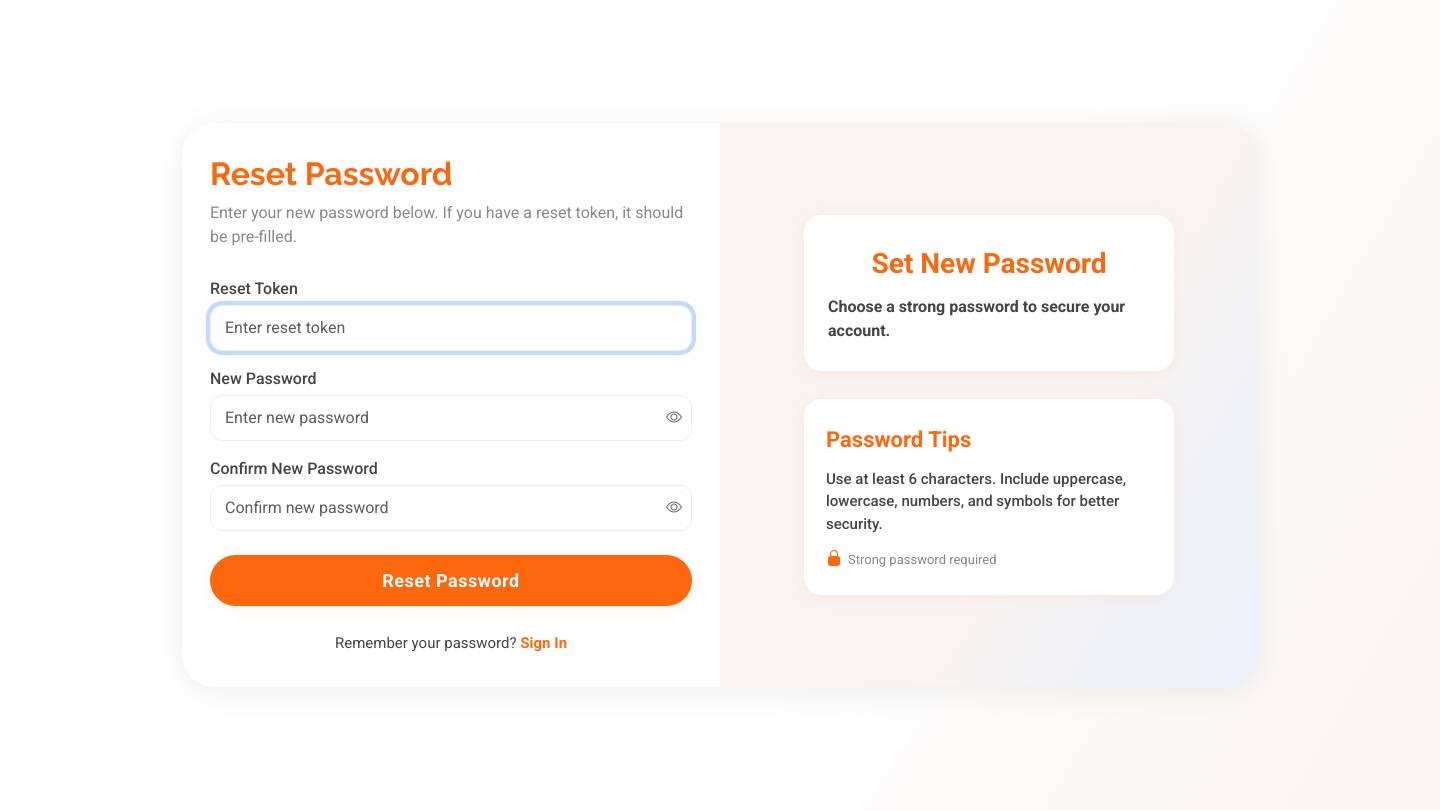
Test: ResetPassword › shows error when passwords do not match
The width and height of the screenshot is (1440, 810).
Step 1. Type "some-token" into the field labelled "Reset Token" → point(451, 328), box top-left (210, 305), bottom-right (692, 351)
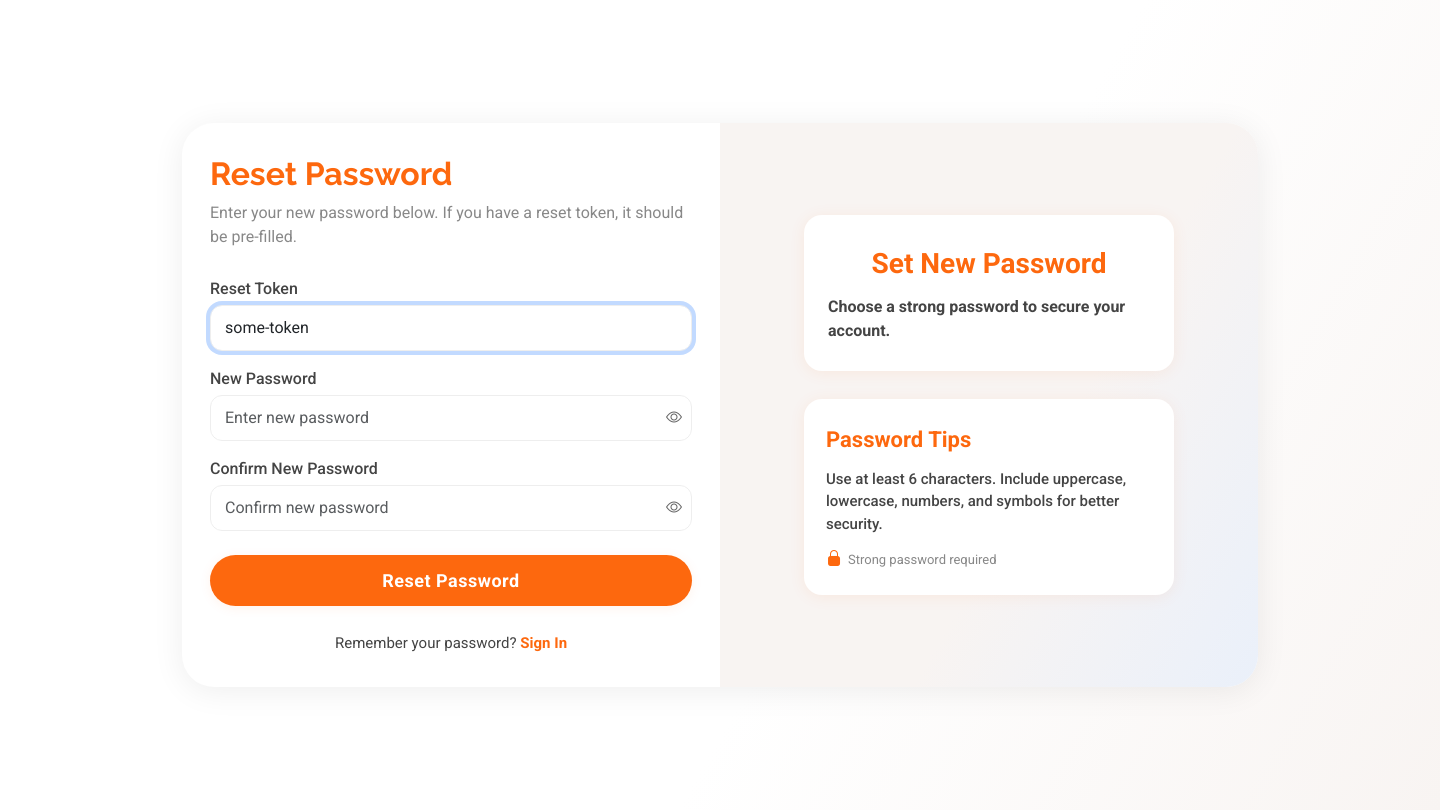
Step 2. Type "Password123!" into the password field labelled "New Password" → point(451, 418), box top-left (210, 395), bottom-right (692, 441)
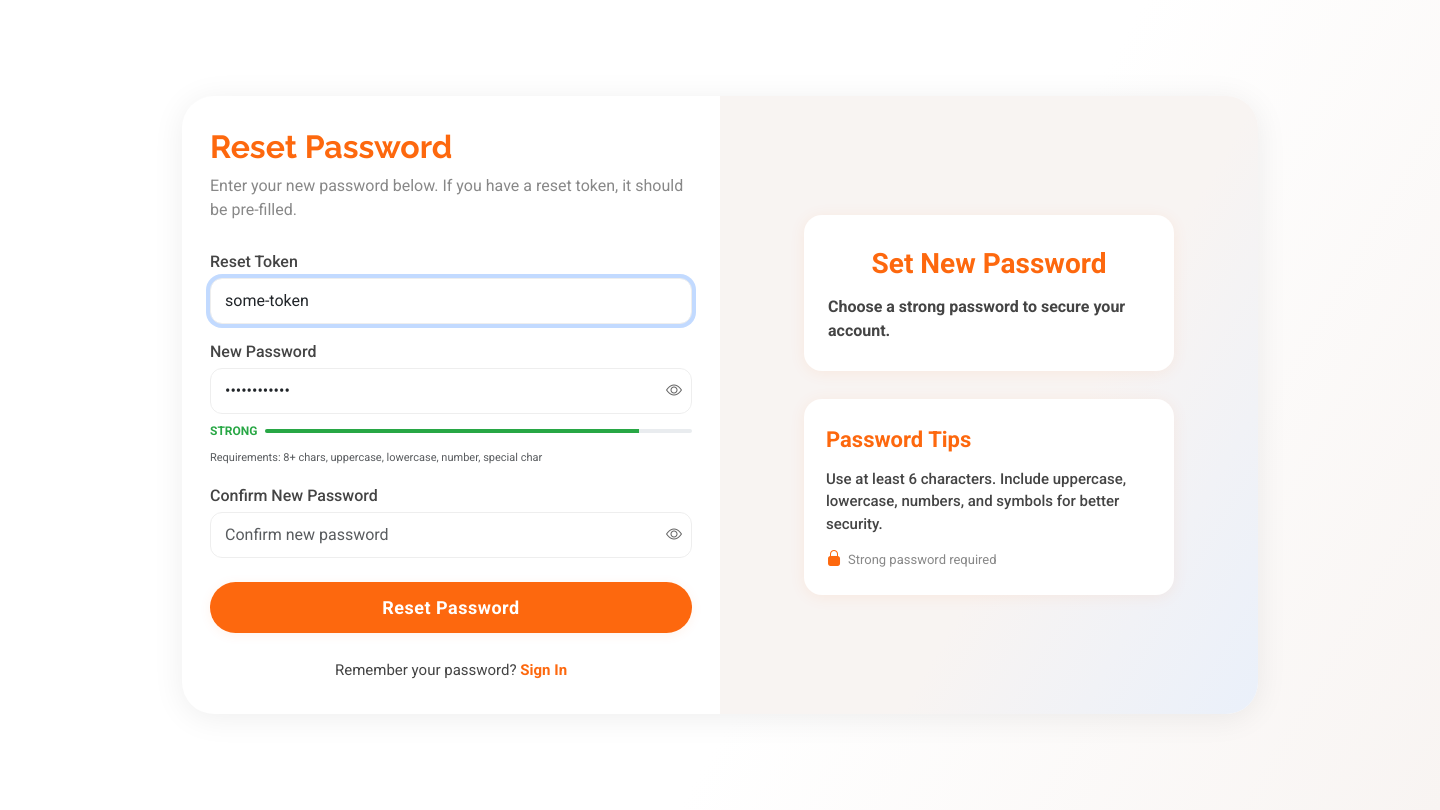
Step 3. Type "DifferentPass123!" into the password field labelled "Confirm New Password" → point(451, 535), box top-left (210, 512), bottom-right (692, 558)
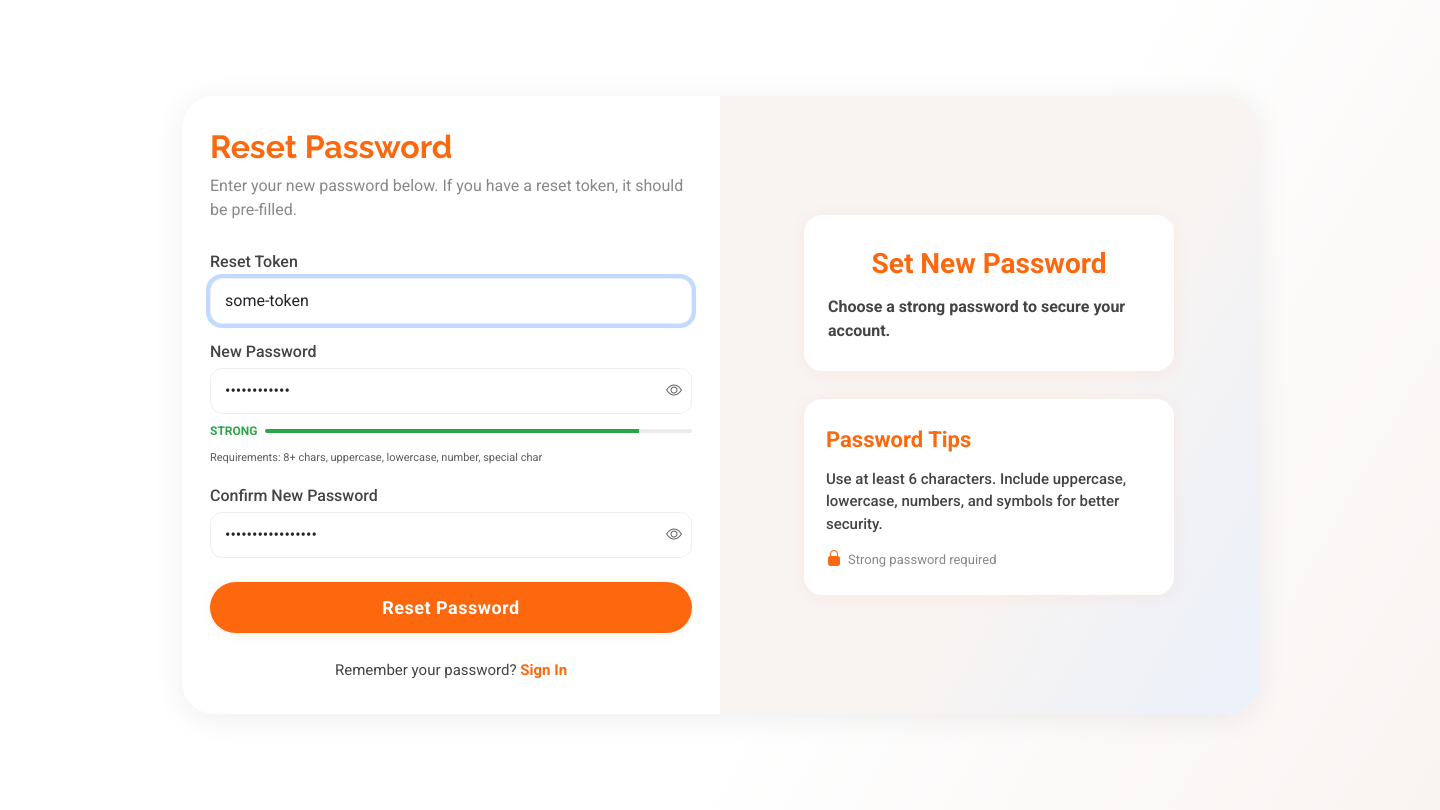
Step 4. Click the button "Reset Password" → point(451, 608), box top-left (210, 582), bottom-right (692, 633)
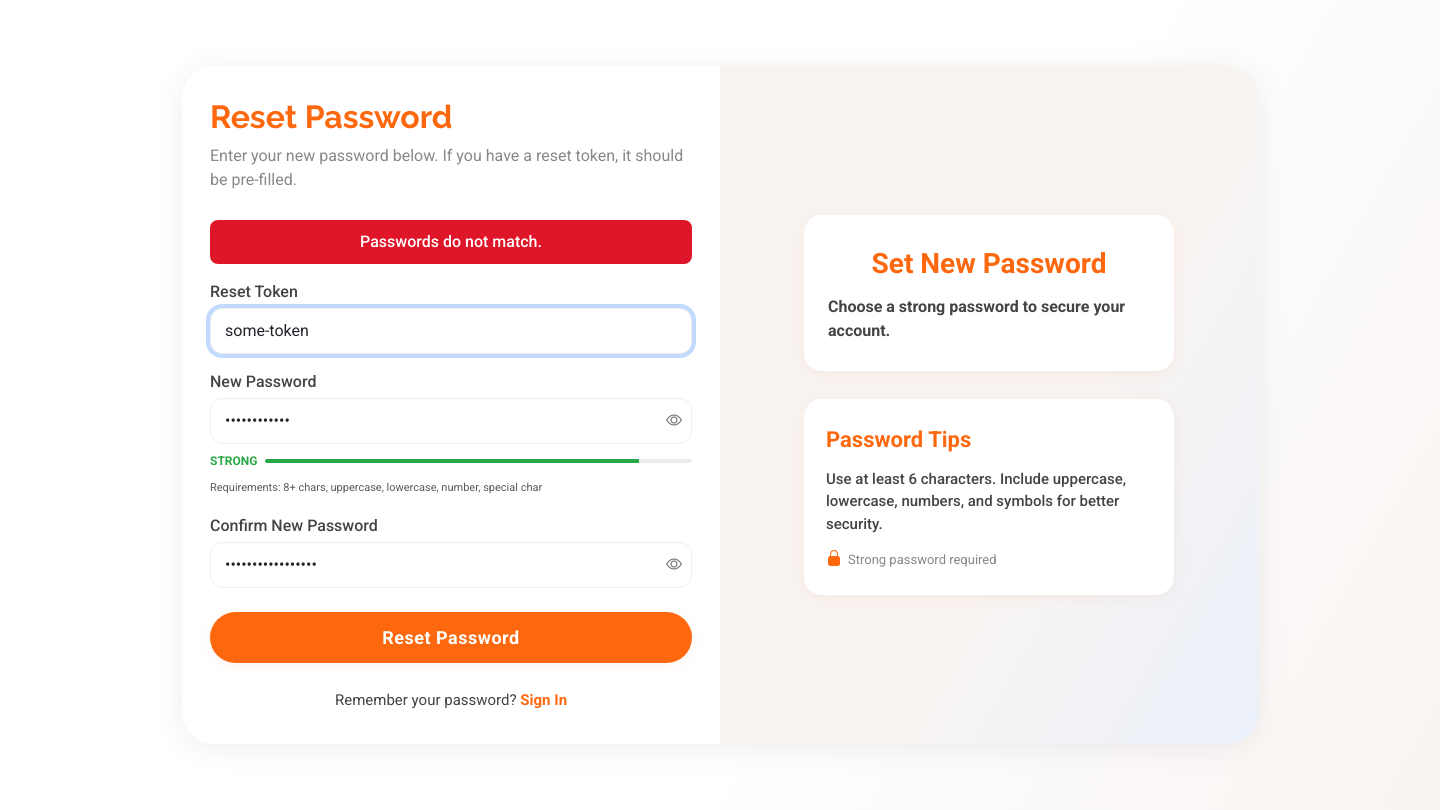
expect the text with test id "error-message" shows "Passwords do not match": met, box top-left (360, 232), bottom-right (542, 251)
